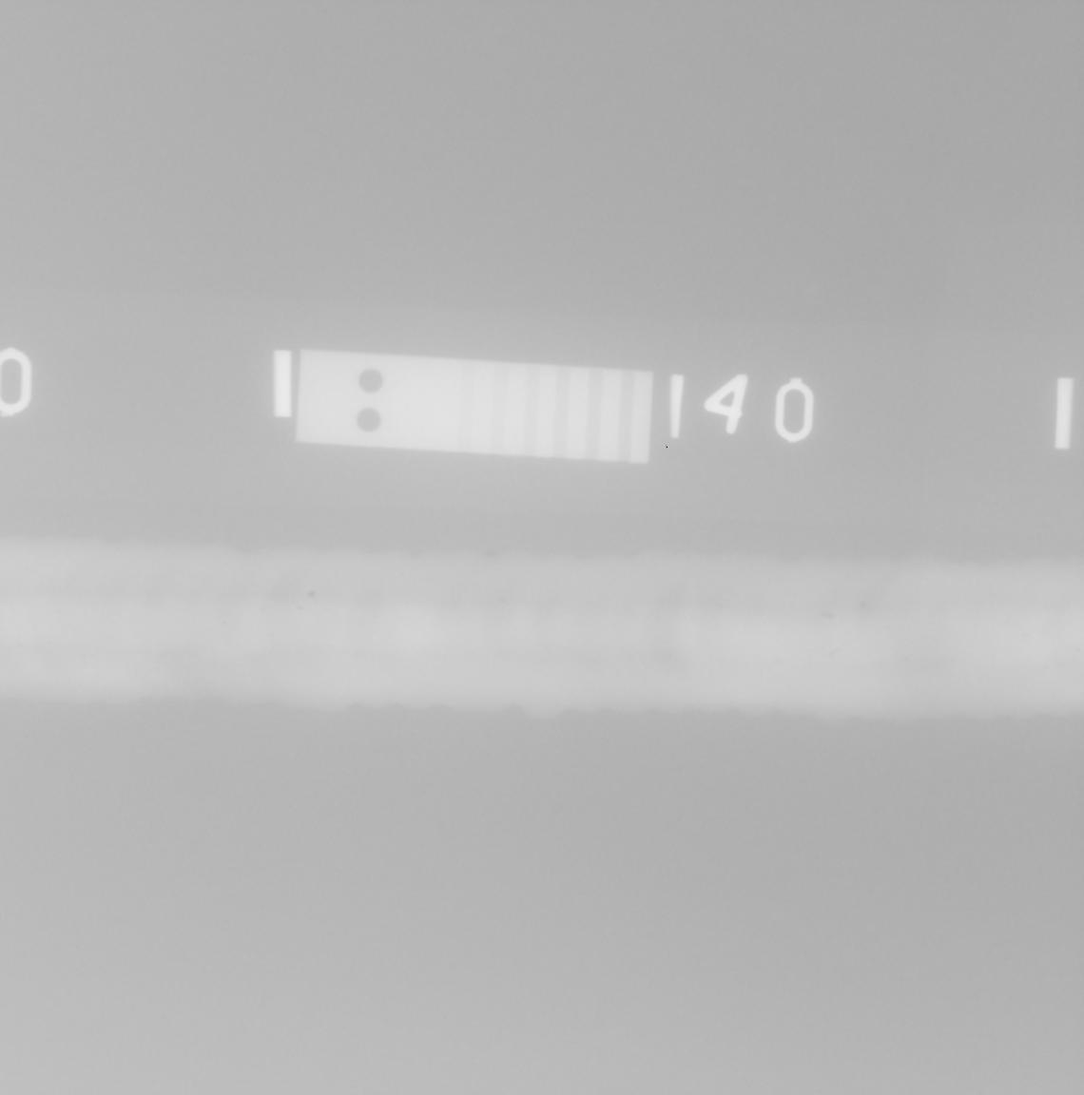Inclusion: (773, 656, 782, 665), (109, 619, 118, 625), (809, 648, 817, 654), (249, 591, 258, 596), (816, 646, 825, 650), (719, 602, 724, 609), (836, 648, 841, 653), (269, 633, 275, 637), (905, 657, 909, 661)
Pore/Porosity: (496, 595, 506, 603), (821, 613, 834, 619), (858, 600, 867, 608), (308, 589, 316, 597), (16, 642, 24, 649), (355, 649, 363, 655), (949, 657, 956, 663), (1004, 619, 1011, 624), (828, 652, 835, 657), (297, 605, 304, 610), (860, 589, 866, 593), (221, 621, 227, 625), (1021, 634, 1028, 637), (856, 629, 860, 634), (372, 615, 377, 619)
Reference Standard 2: (295, 348, 653, 465)
Undercut: (480, 550, 501, 557)
